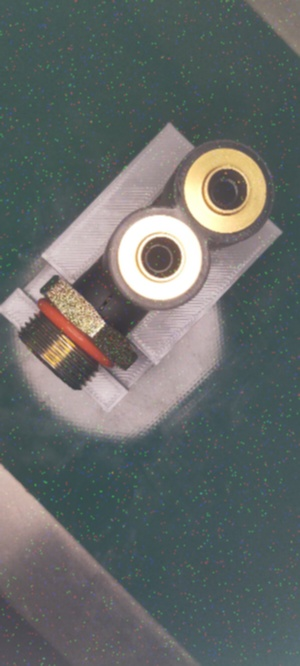craze: (97, 289, 112, 312)
